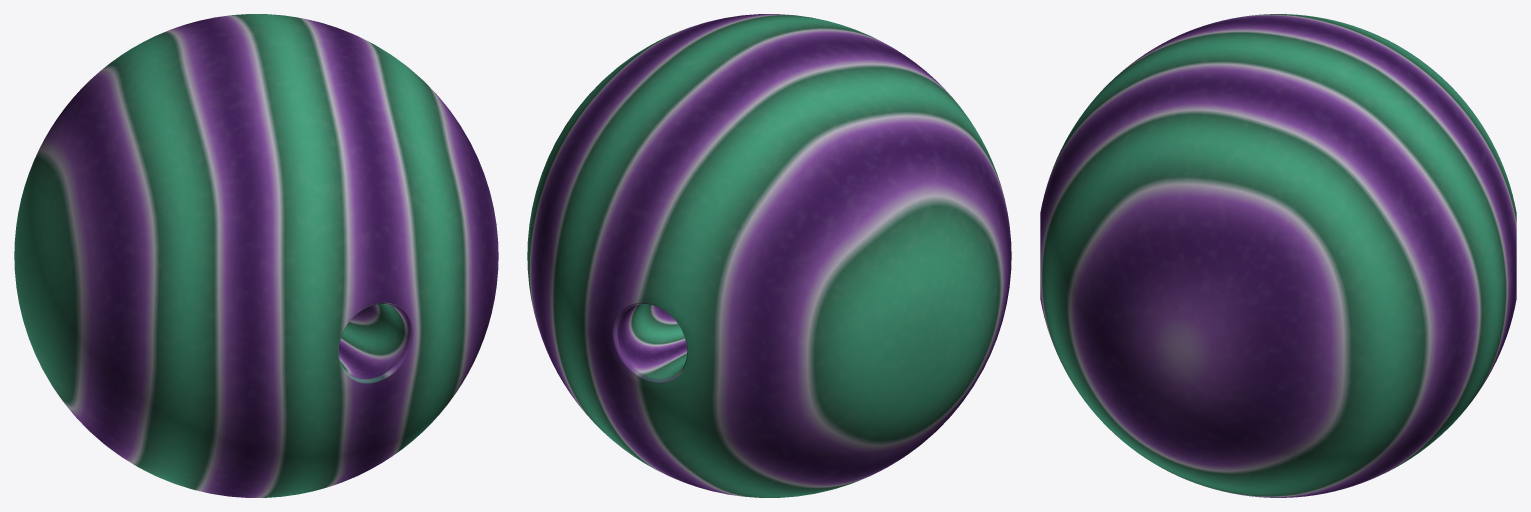
The model's file is fluorite-6mm.glb.
The picture shows the model from 3 angles, left to right: view 1: azimuth 30°, elevation 25°; view 2: azimuth 150°, elevation 25°; view 3: azimuth 270°, elevation 25°; orthographic projection.
Parts seen in each view (by area): view 1: fluorite.001; view 2: fluorite.001; view 3: fluorite.001.
Part boxes in pixels (left/top/right/bottom): fluorite.001: left=14, top=14, right=498, bottom=497; fluorite.001: left=527, top=14, right=1011, bottom=497; fluorite.001: left=1040, top=14, right=1516, bottom=497.
Size of the model in its own units: 0.006 by 0.006 by 0.0059.
2 materials, 1 textured.
